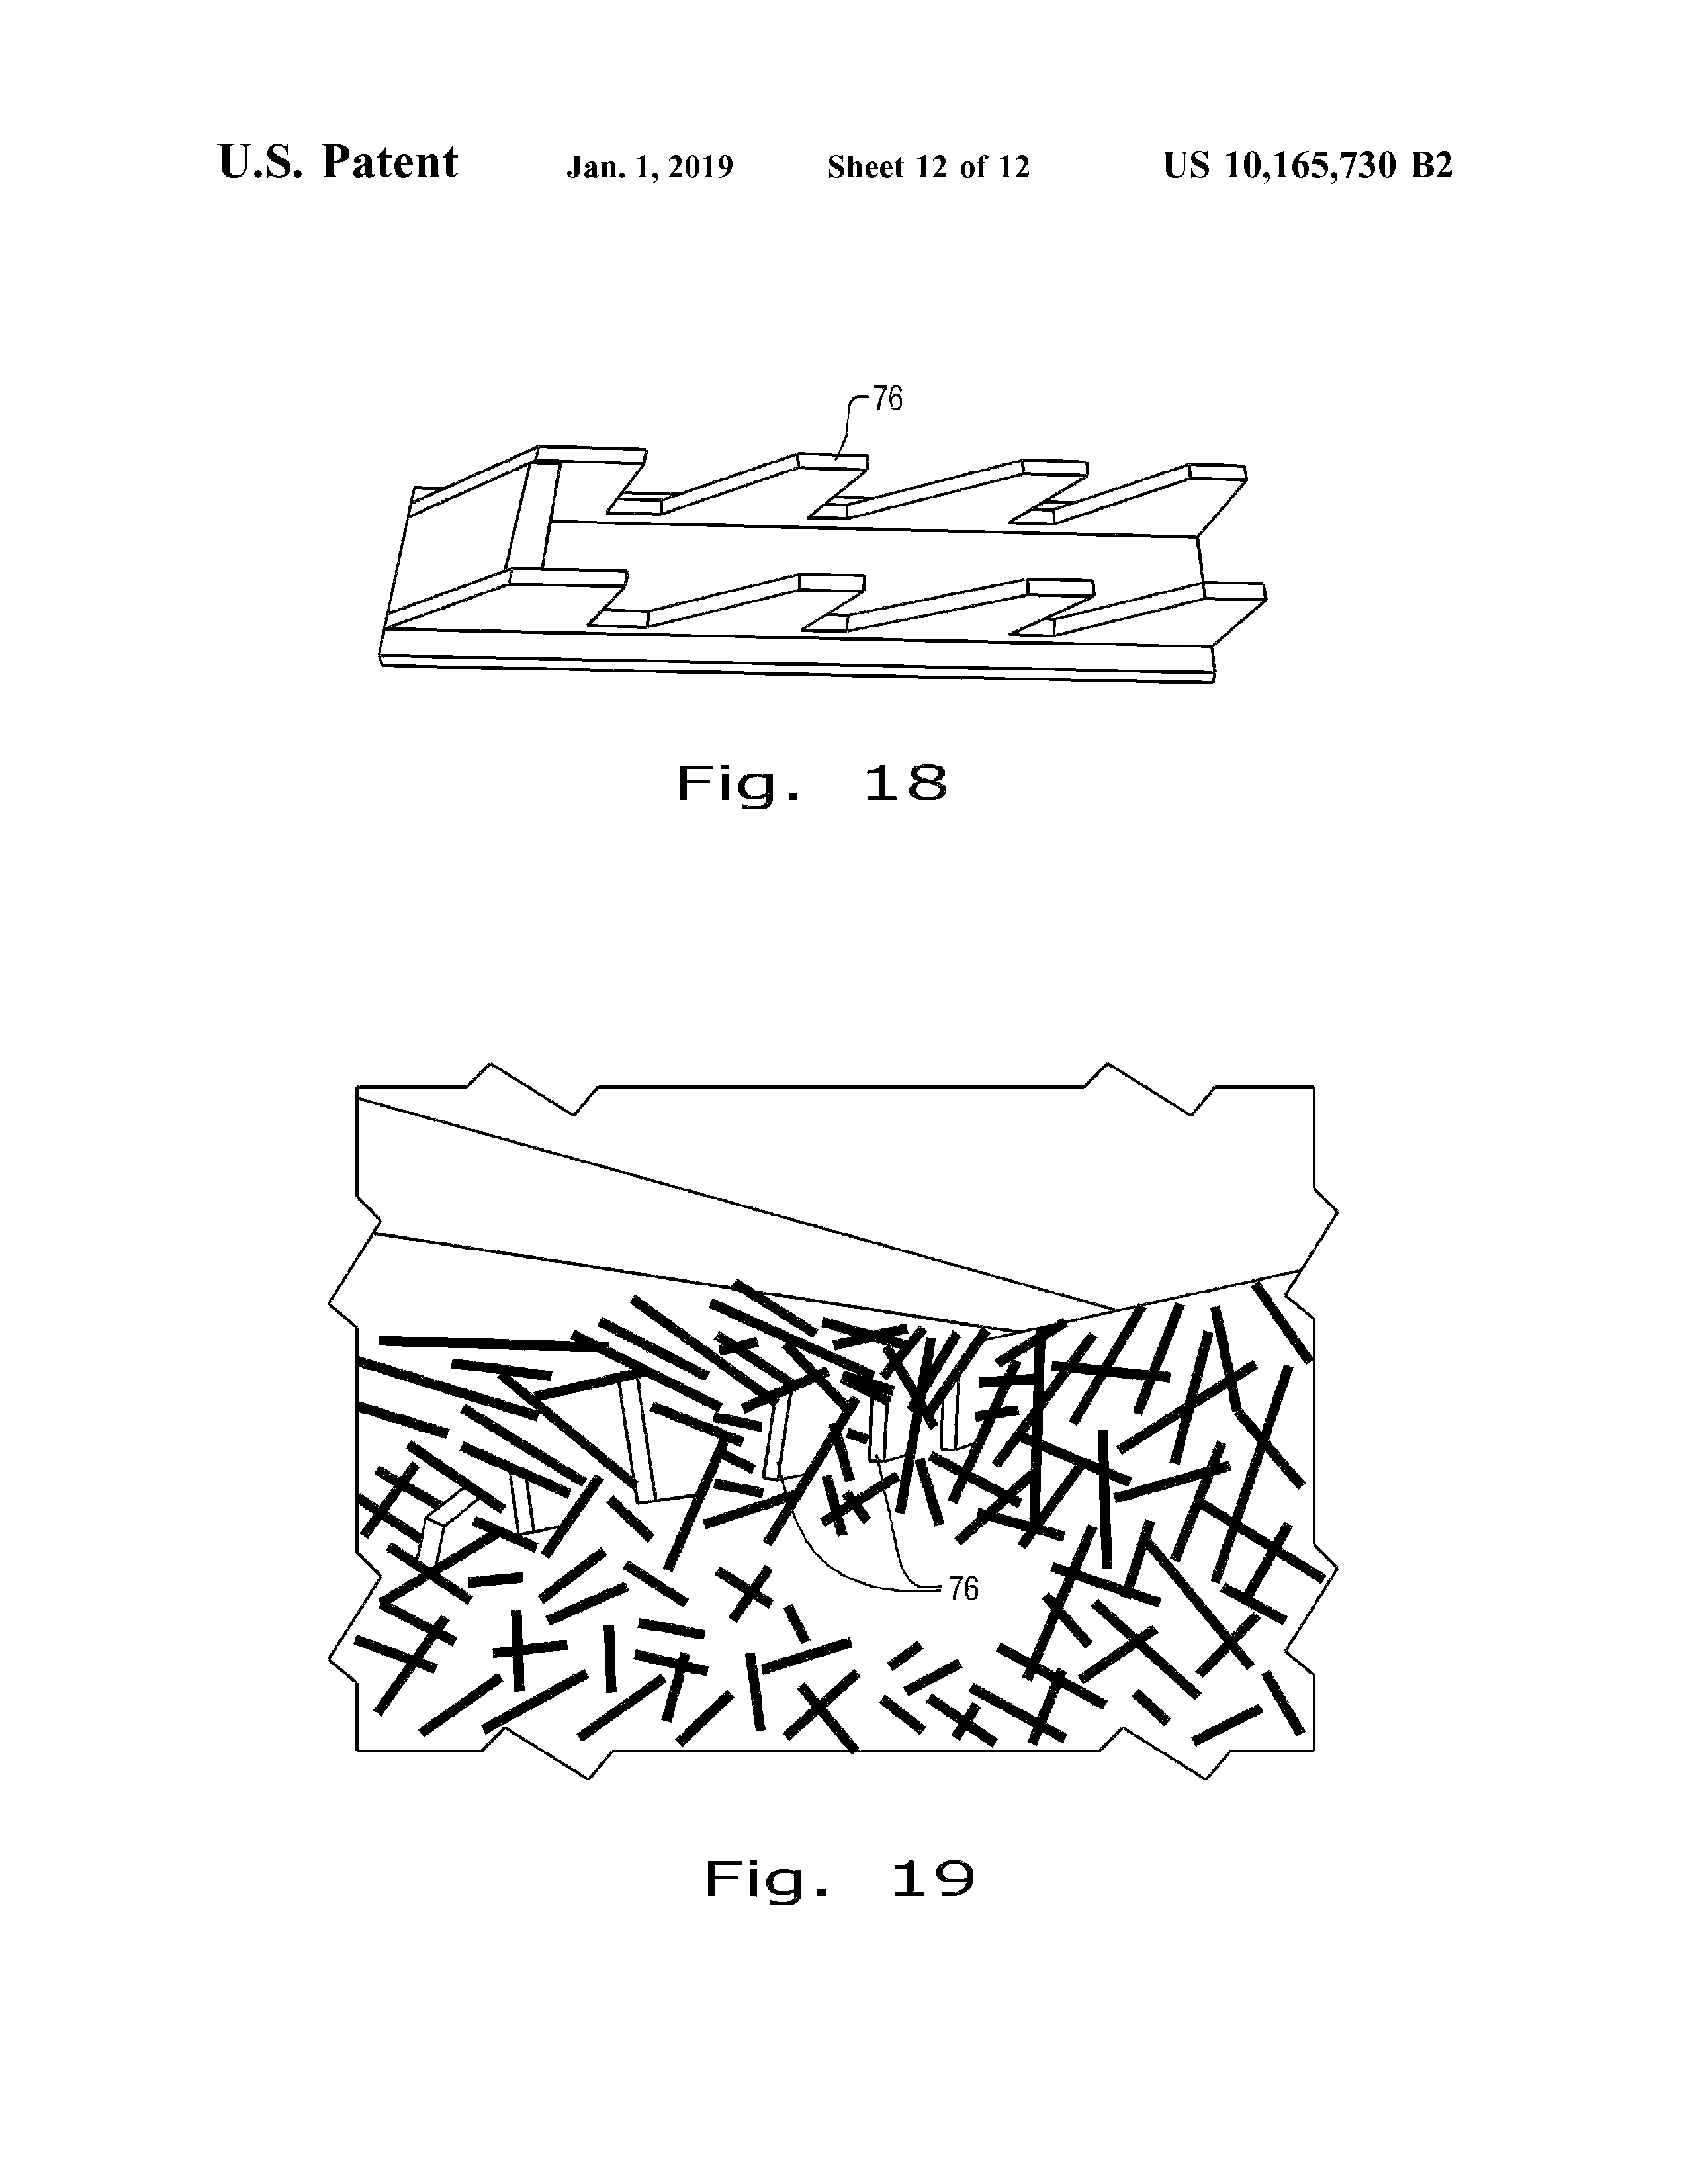patent image: (290, 1016, 1444, 1907), (353, 291, 1363, 897)
